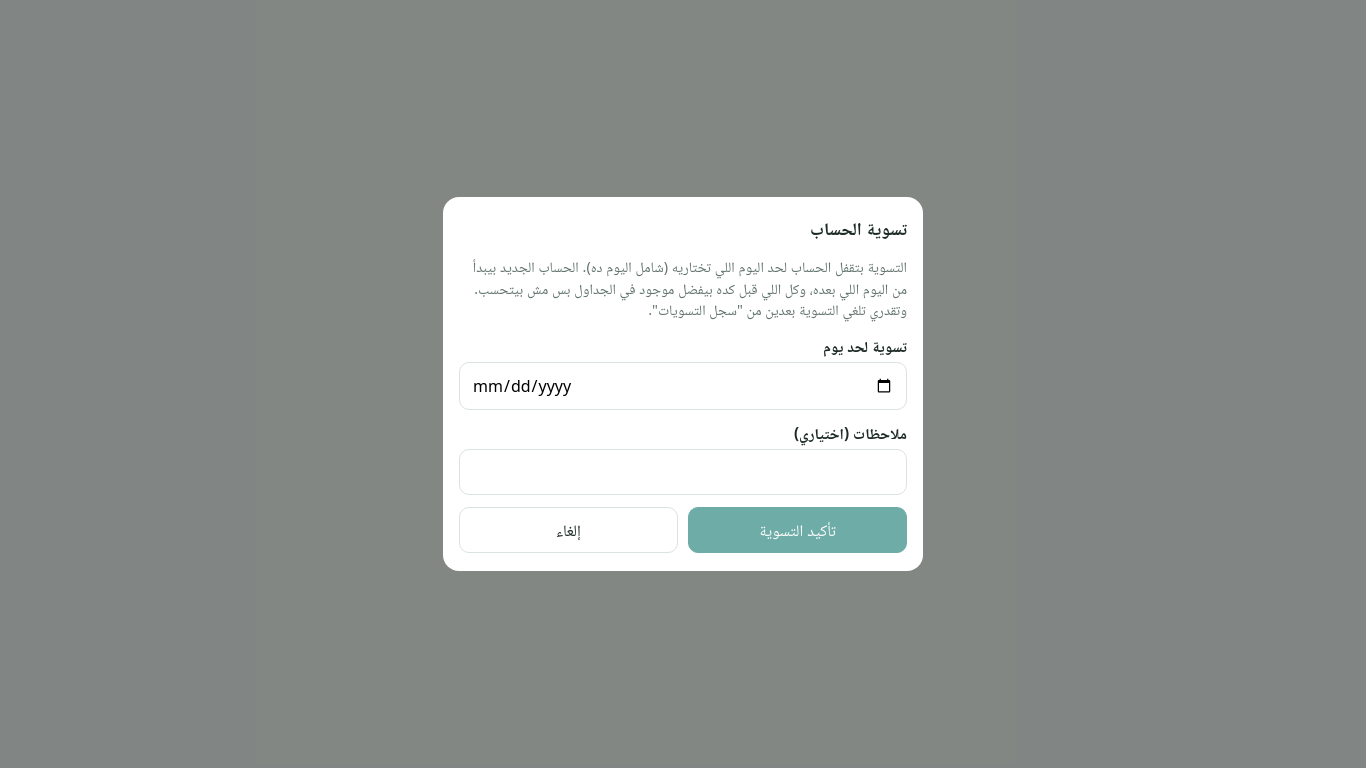
Test case: SettlementModal › shows an error and can be retried when saving fails
The width and height of the screenshot is (1366, 768).
Type "2026-07-05" into the date field labelled "تسوية لحد يوم". click: (683, 386)
box: left=459, top=362, right=907, bottom=410
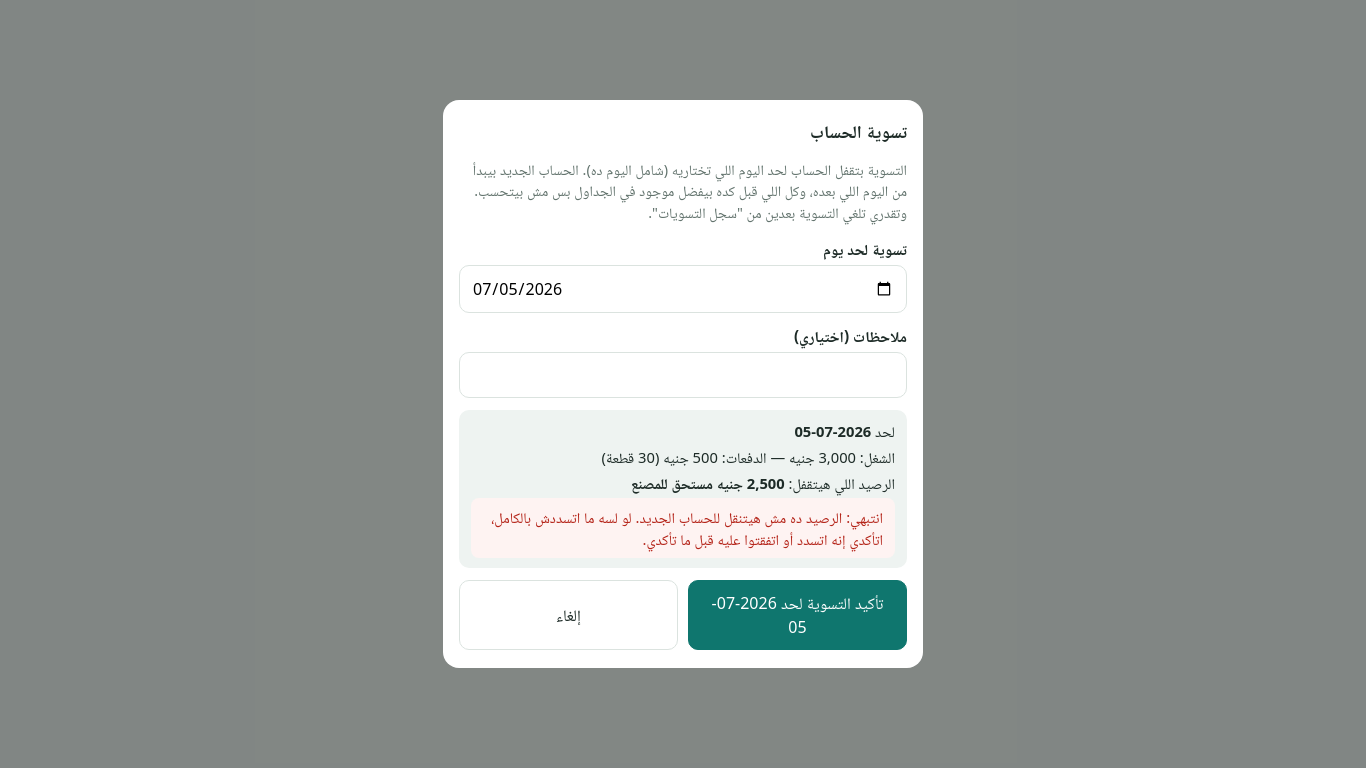
Click the button "تأكيد التسوية لحد 2026-07-05". click: (798, 615)
box: left=688, top=580, right=907, bottom=650
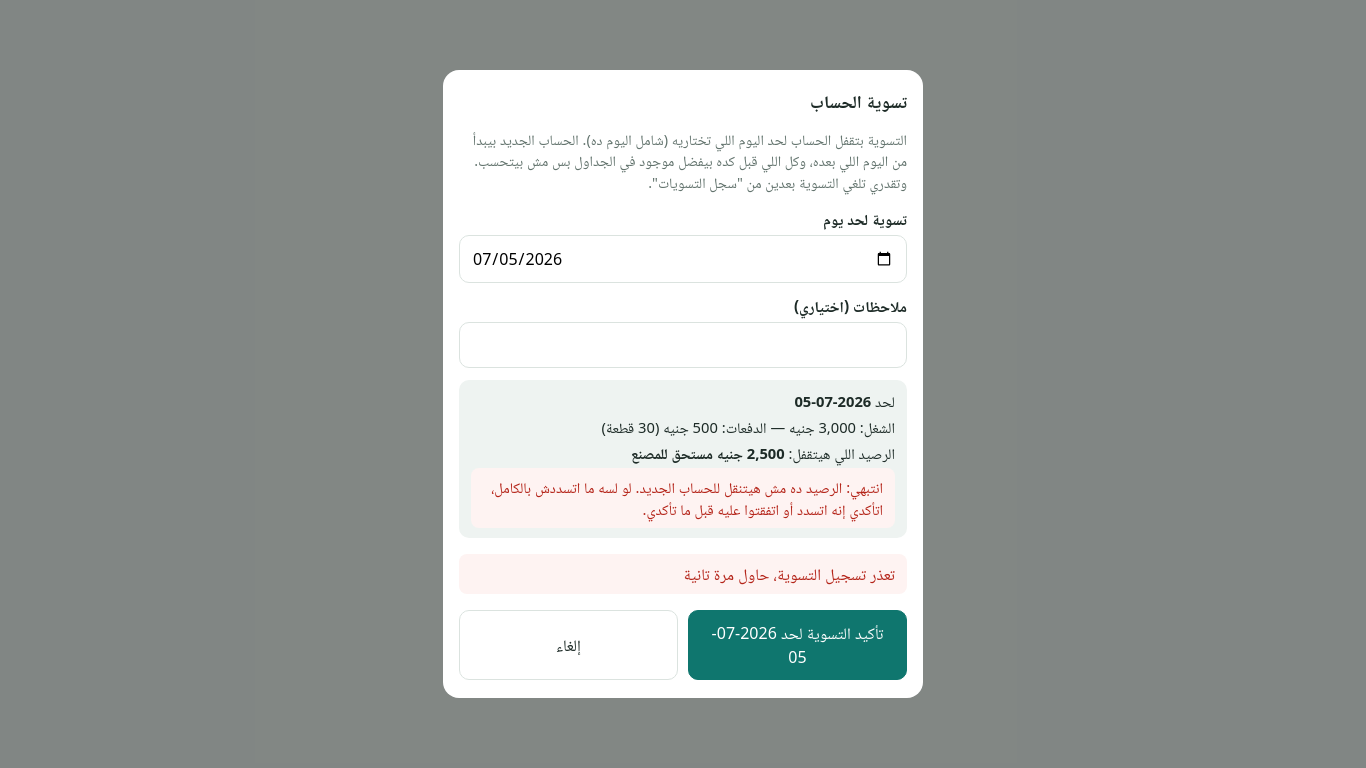
Now the button "تأكيد التسوية لحد 2026-07-05" is enabled, box left=688, top=610, right=907, bottom=680
Now the text "تعذر تسجيل التسوية، حاول مرة تانية" is shown, box left=459, top=554, right=907, bottom=594
